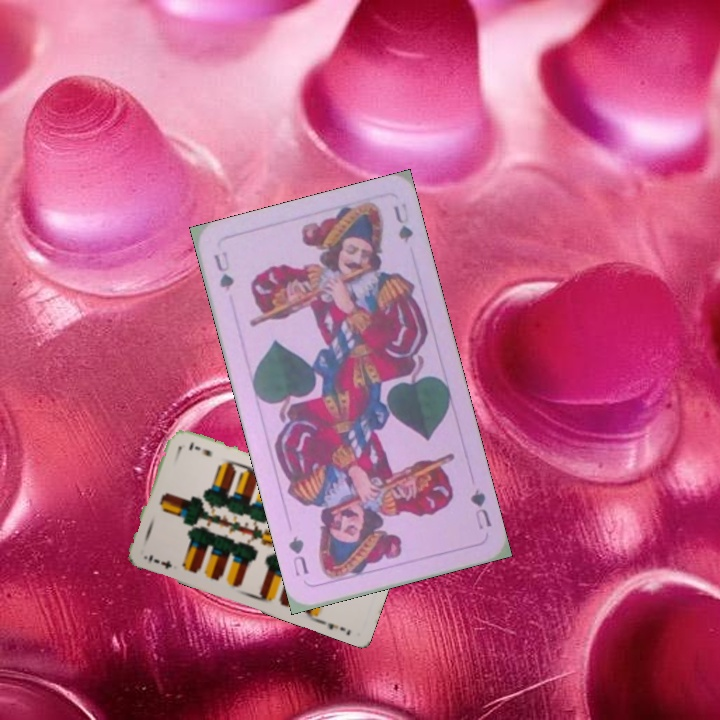E7: (144, 550, 175, 572)
GU: (466, 485, 494, 532), (209, 247, 237, 294)
